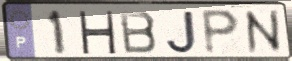1: (44, 9, 69, 57)
B: (117, 10, 160, 55)
H: (76, 10, 118, 56)
J: (165, 9, 199, 55)
N: (242, 8, 286, 56)
P: (200, 8, 242, 57)
